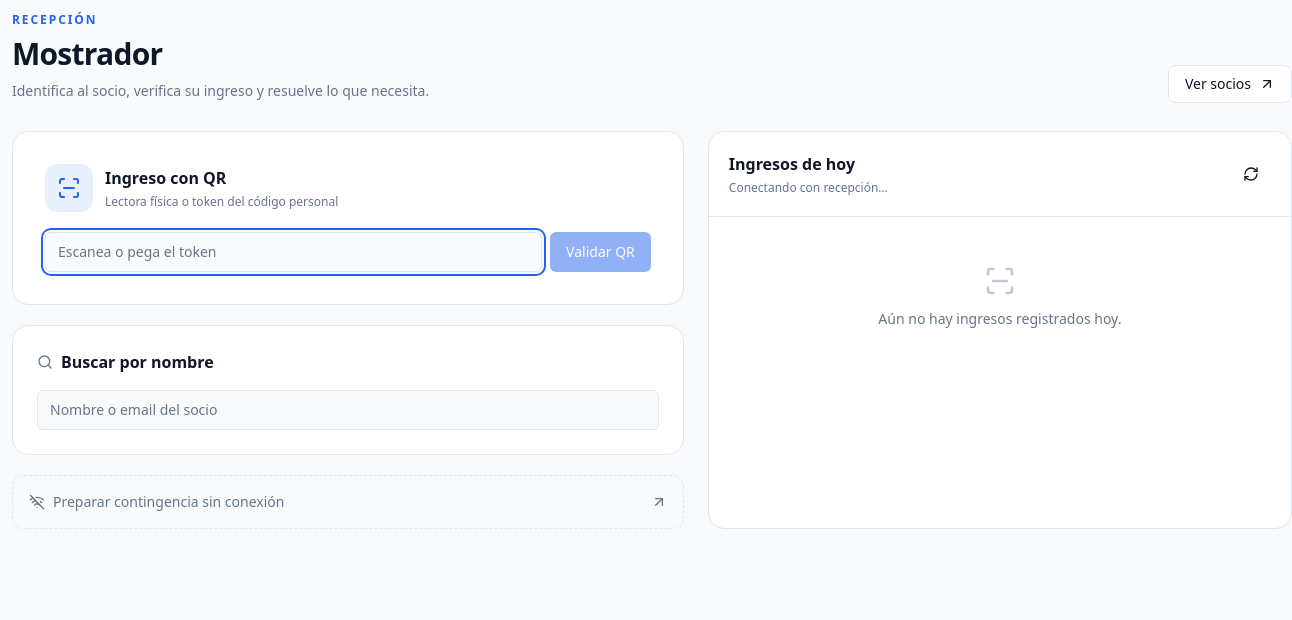
Test: SPEC 010 capacidades de recepción y portal › CA-2 fallo de transporte se diferencia de QR desconocido
Type "qr" into the field named "Token de QR" at (294, 252), box [45, 232, 542, 272]
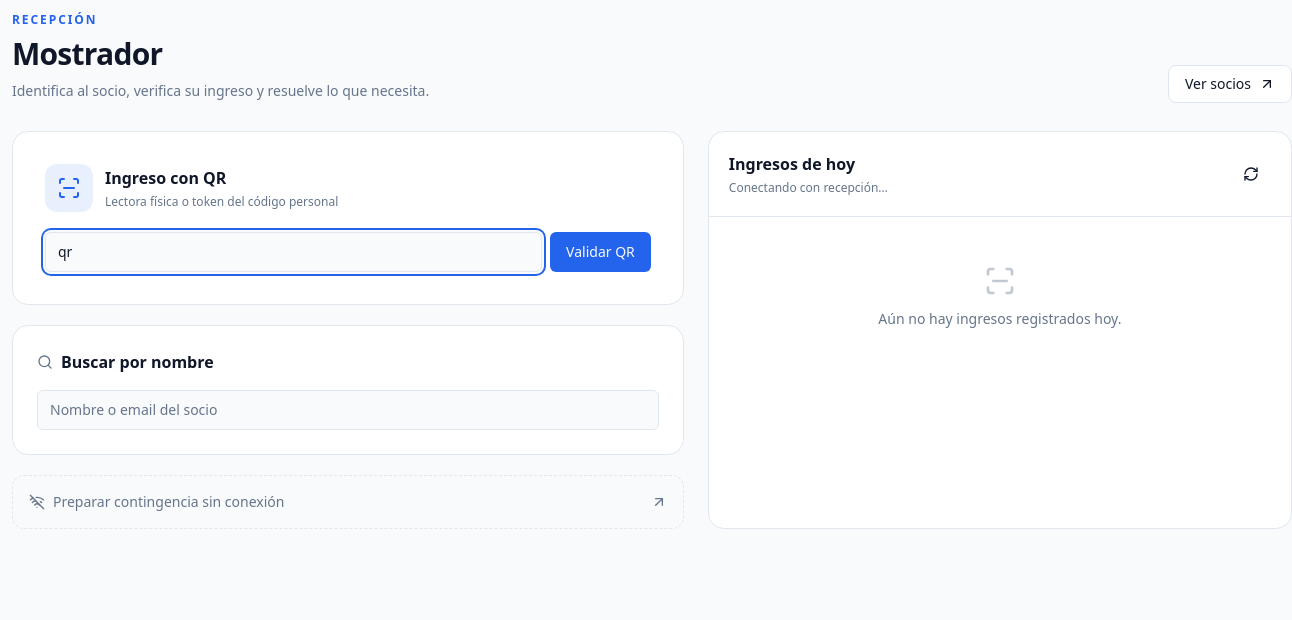
Click the button "Validar QR" at (600, 252), box [550, 232, 651, 272]
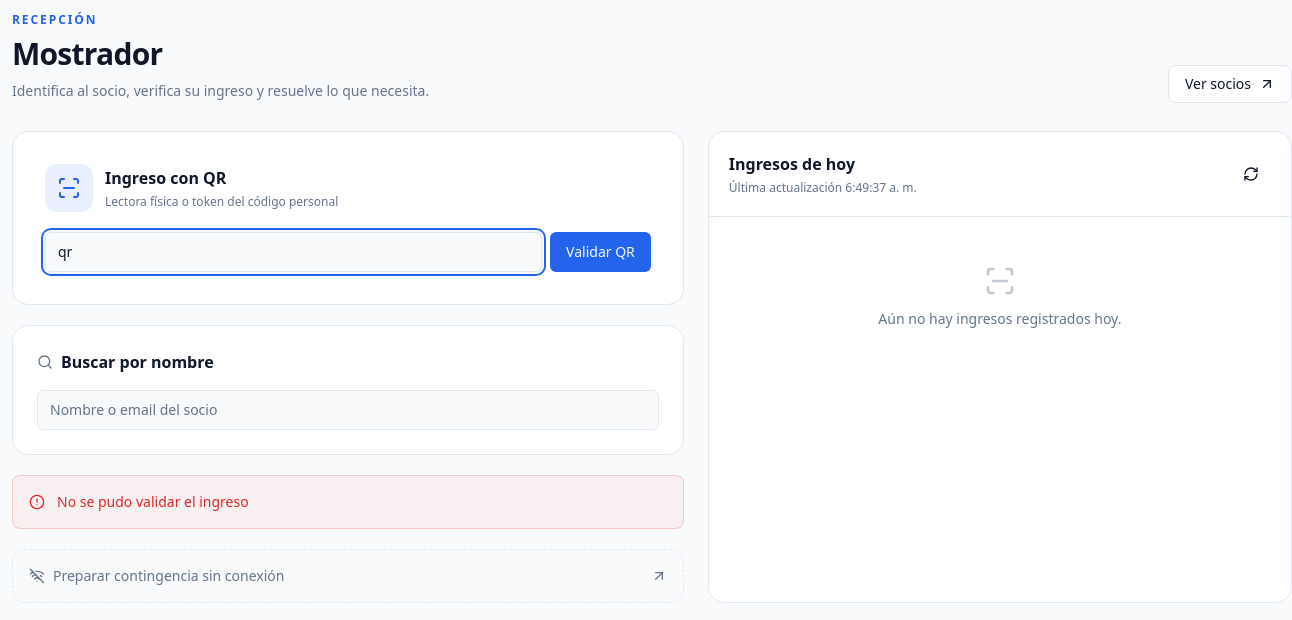
Expected: the text "No se pudo validar el ingreso" is shown, [57, 492, 249, 511]
